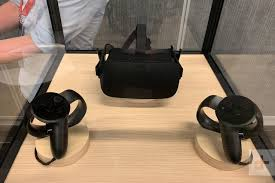oculus: (95, 42, 186, 101)
